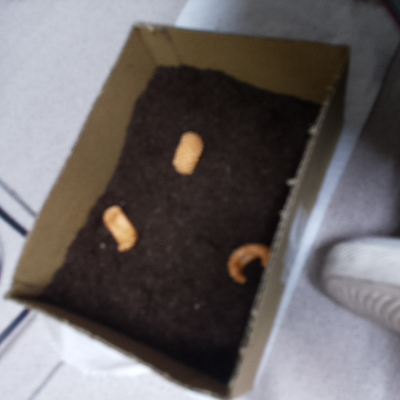eggs: (223, 240, 273, 292), (95, 203, 143, 255), (166, 125, 209, 178)
